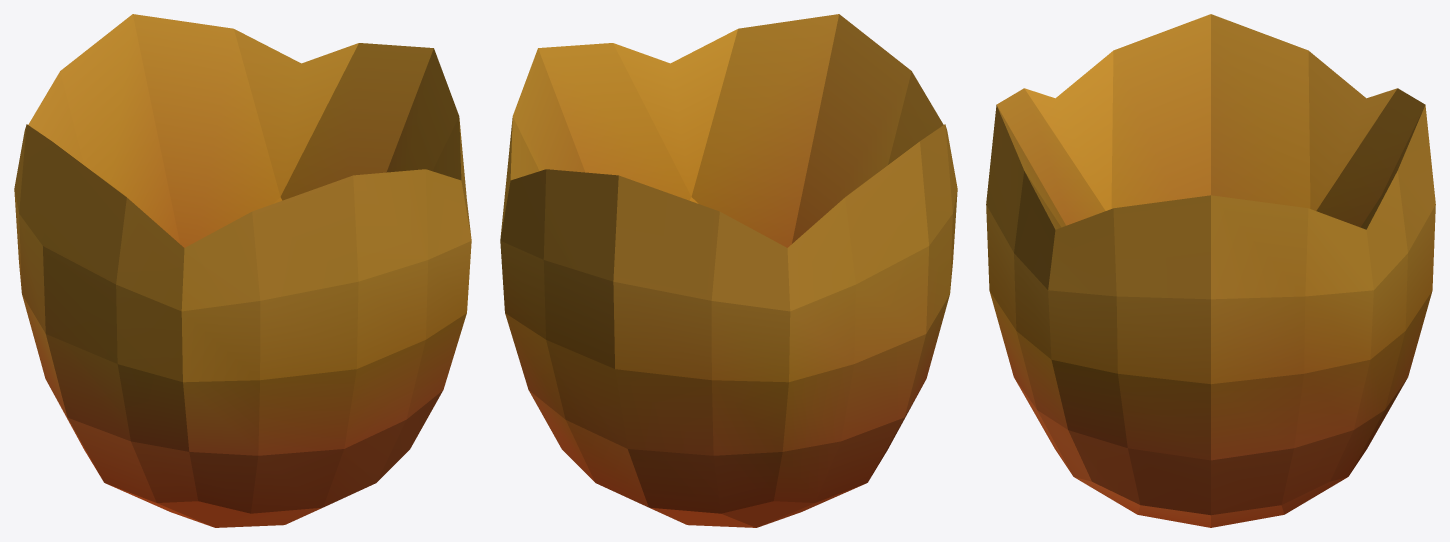
The model's file is 05 bud color.fbx.
The picture shows the model from 3 angles, left to right: view 1: azimuth 30°, elevation 25°; view 2: azimuth 150°, elevation 25°; view 3: azimuth 270°, elevation 25°; orthographic projection. The views are drawn at different scales.
Parts seen in each view (by area): view 1: bud; view 2: bud; view 3: bud.
Part boxes in pixels (x1,y1,x2,y2): bud: [14, 14, 471, 527]; bud: [500, 14, 957, 527]; bud: [986, 14, 1435, 527].
Bounding box in the file's own units: 152 × 152 × 149.
